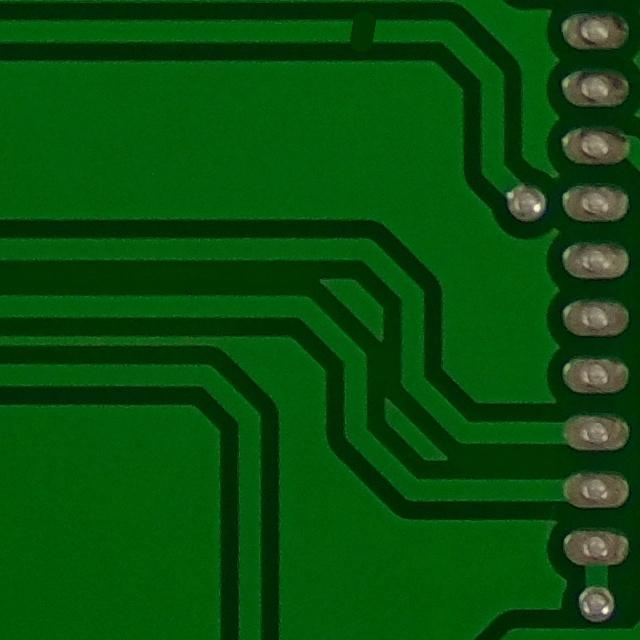open_circuit: (334, 8, 387, 51)
